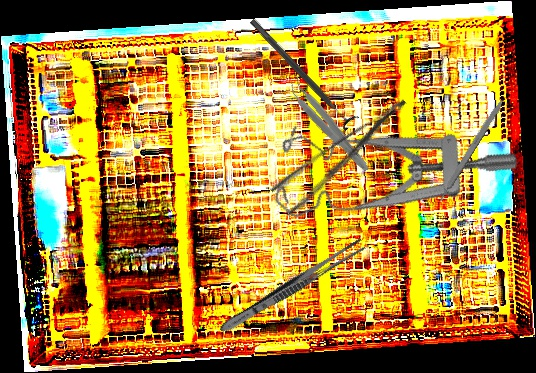Dressing Forceps: (268, 96, 423, 218), (216, 235, 368, 338)
Fixation Ring: (243, 12, 361, 133)
Scalpel Handle: (434, 94, 508, 204)
Speculum: (260, 80, 522, 280)
Tissue Forceps: (282, 74, 377, 176)
